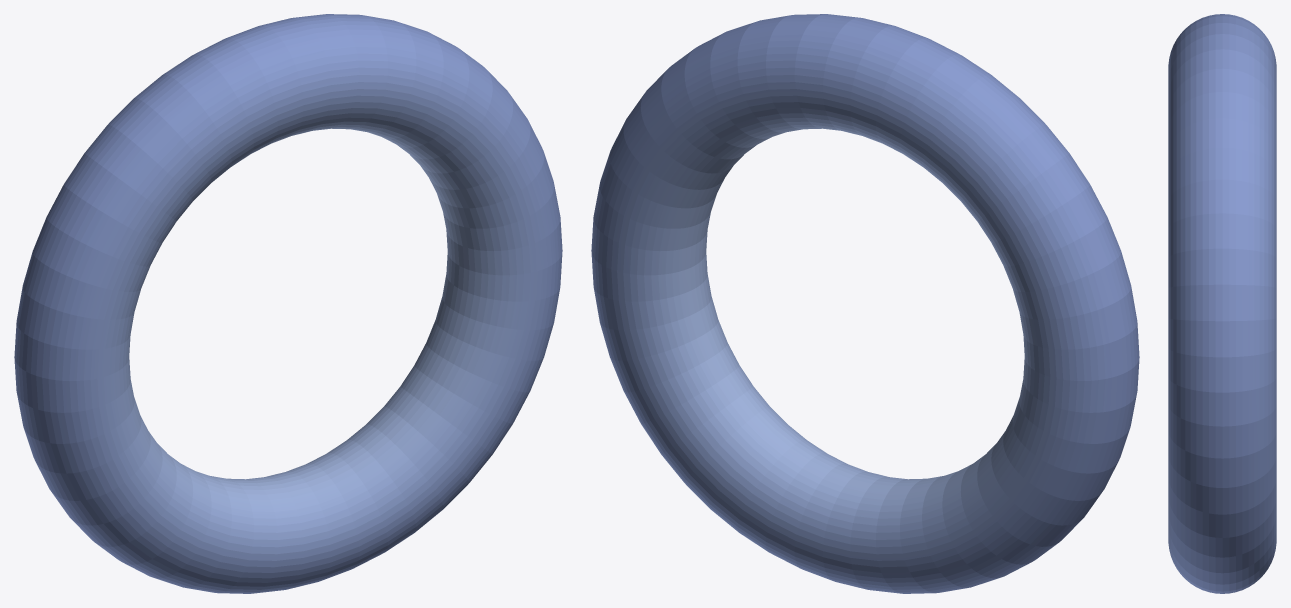
3 views of the same model, side by side, from view 1: azimuth 30°, elevation 25°; view 2: azimuth 150°, elevation 25°; view 3: azimuth 270°, elevation 25° (orthographic). The views are drawn at different scales.
Parts seen in each view (by area): view 1: world; view 2: world; view 3: world.
Boxes of the visible parts, x1,y1,x2,y2 form: world: (14,14,562,593); world: (591,14,1139,593); world: (1168,14,1276,593).
Bounding box in the file's own units: 22.13 × 22.09 × 4.13.
